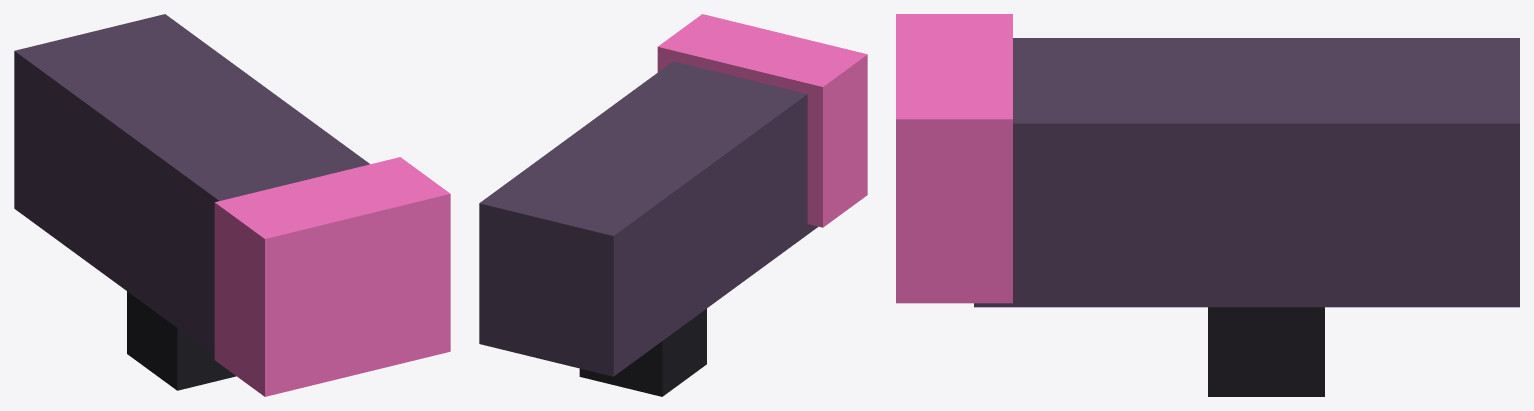
The model's file is gun_mortar.glb.
3 renders of one model, left to right at view 1: azimuth 30°, elevation 25°; view 2: azimuth 150°, elevation 25°; view 3: azimuth 270°, elevation 25°, orthographic. The views are drawn at different scales.
Parts seen in each view (by area): view 1: gun_mortar; view 2: gun_mortar; view 3: gun_mortar.
Part boxes in pixels (x1,y1,x2,y2): gun_mortar: (14, 14, 450, 396); gun_mortar: (479, 14, 867, 396); gun_mortar: (896, 14, 1519, 396).
Size of the model in its own units: 0.32 by 0.43 by 0.8.
Materials: 1 (1 with a texture image).
